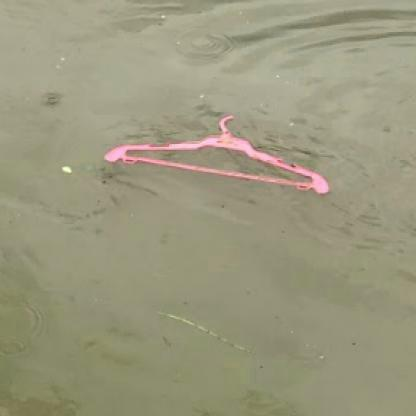Trash: (98, 103, 337, 201)
